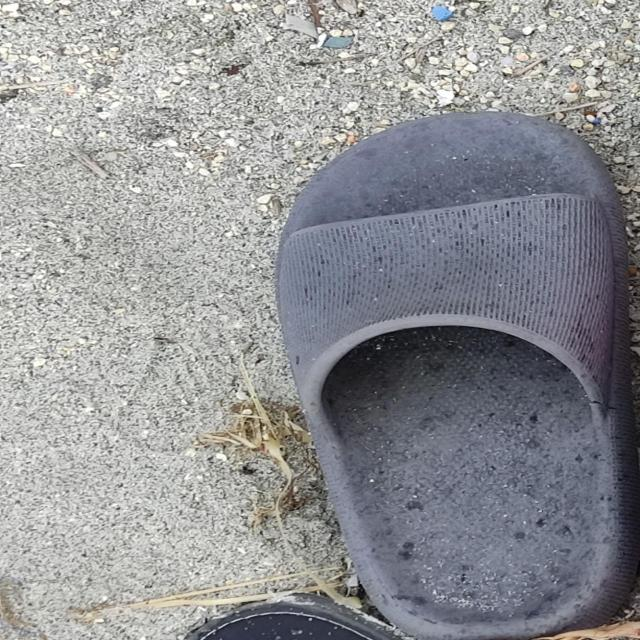litter: (272, 109, 636, 640)
